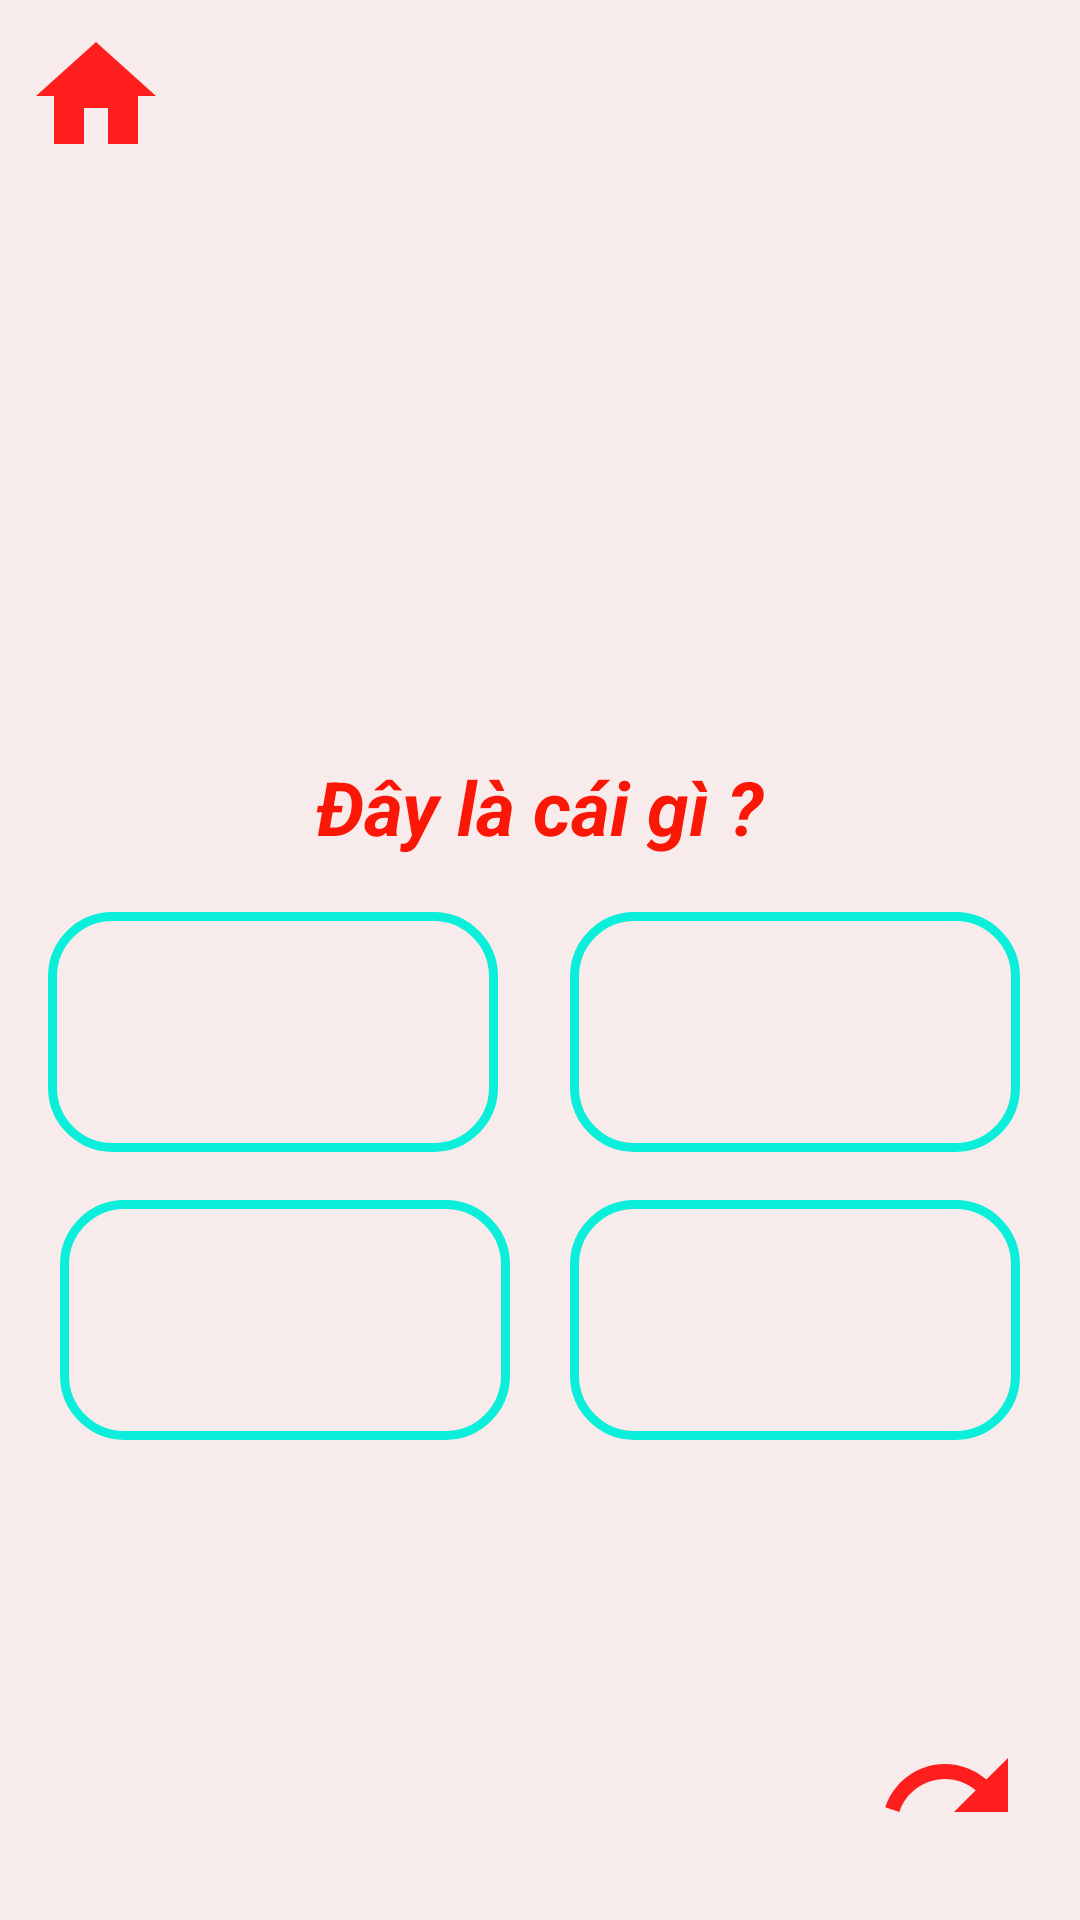

Icons on this 1080w x 1920h Android screen, each with the point to tap as [x,y]:
home: [96,93]
redo: [946,1785]
